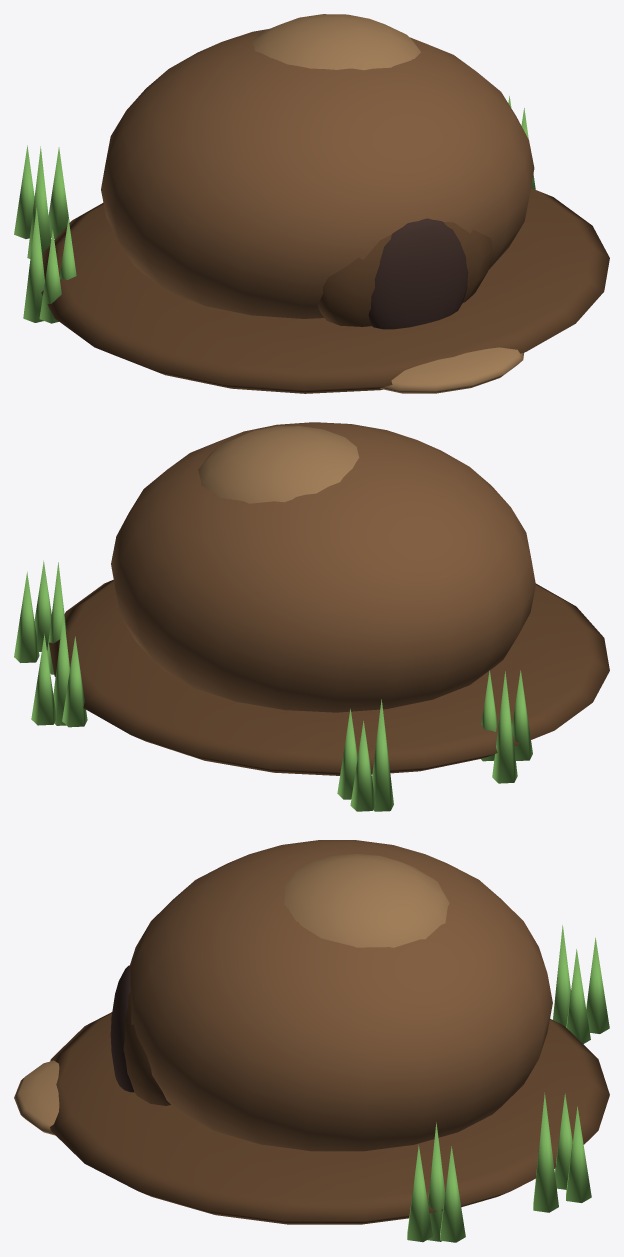
Rendered from molehill.glb.
3 renders of one model, top to bottom at view 1: azimuth 30°, elevation 25°; view 2: azimuth 150°, elevation 25°; view 3: azimuth 270°, elevation 25°, orthographic. The views are drawn at different scales.
Visible parts, largest first — view 1: MOLEHILL · mound, MOLEHILL · skirt, MOLEHILL · burrow door, MOLEHILL · crown, MOLEHILL · door lip, MOLEHILL · door floor, MOLEHILL · grass 0-1, MOLEHILL · grass 2-1, MOLEHILL · grass 2-2, MOLEHILL · grass 2-0, MOLEHILL · grass 0-2, MOLEHILL · grass 0-0; view 2: MOLEHILL · mound, MOLEHILL · skirt, MOLEHILL · crown, MOLEHILL · grass 0-1, MOLEHILL · grass 2-1, MOLEHILL · grass 3-2, MOLEHILL · grass 2-0, MOLEHILL · grass 1-0, MOLEHILL · grass 3-0, MOLEHILL · grass 0-2, MOLEHILL · grass 3-1, MOLEHILL · grass 2-2 (+3 smaller); view 3: MOLEHILL · mound, MOLEHILL · skirt, MOLEHILL · crown, MOLEHILL · door floor, MOLEHILL · door lip, MOLEHILL · grass 3-1, MOLEHILL · burrow door, MOLEHILL · grass 1-0, MOLEHILL · grass 1-2, MOLEHILL · grass 3-2, MOLEHILL · grass 2-0, MOLEHILL · grass 1-1 (+3 smaller).
Boxes of the visible parts, box(x1,y1,x2,y2) form: MOLEHILL · mound: box(101, 29, 534, 318); MOLEHILL · skirt: box(41, 188, 609, 393); MOLEHILL · burrow door: box(368, 218, 468, 329); MOLEHILL · crown: box(251, 14, 420, 70); MOLEHILL · door lip: box(317, 222, 492, 326); MOLEHILL · door floor: box(380, 347, 523, 393); MOLEHILL · grass 0-1: box(23, 207, 44, 322); MOLEHILL · grass 2-1: box(27, 146, 51, 258); MOLEHILL · grass 2-2: box(48, 147, 69, 239); MOLEHILL · grass 2-0: box(14, 145, 34, 238); MOLEHILL · grass 0-2: box(39, 230, 61, 323); MOLEHILL · grass 0-0: box(59, 218, 76, 279); MOLEHILL · mound: box(111, 422, 535, 712); MOLEHILL · skirt: box(49, 580, 609, 775); MOLEHILL · crown: box(198, 426, 359, 503); MOLEHILL · grass 0-1: box(492, 671, 517, 783); MOLEHILL · grass 2-1: box(372, 699, 393, 811); MOLEHILL · grass 3-2: box(31, 634, 56, 725); MOLEHILL · grass 2-0: box(350, 721, 375, 811); MOLEHILL · grass 1-0: box(14, 571, 39, 662); MOLEHILL · grass 3-0: box(62, 636, 87, 727); MOLEHILL · grass 0-2: box(512, 670, 532, 760); MOLEHILL · grass 3-1: box(53, 613, 69, 725); MOLEHILL · grass 2-2: box(337, 708, 357, 799); MOLEHILL · mound: box(129, 840, 552, 1151); MOLEHILL · skirt: box(50, 1012, 609, 1224); MOLEHILL · crown: box(284, 853, 449, 947); MOLEHILL · door floor: box(14, 1060, 59, 1135); MOLEHILL · door lip: box(123, 992, 170, 1105); MOLEHILL · grass 3-1: box(533, 1092, 558, 1212); MOLEHILL · burrow door: box(110, 965, 133, 1092); MOLEHILL · grass 1-0: box(440, 1146, 465, 1242); MOLEHILL · grass 1-2: box(407, 1145, 432, 1242); MOLEHILL · grass 3-2: box(566, 1106, 591, 1202); MOLEHILL · grass 2-0: box(586, 937, 609, 1033); MOLEHILL · grass 1-1: box(427, 1122, 445, 1241).
Size of what is drawn, in the model's own units: 1.92 by 0.96 by 1.88.
